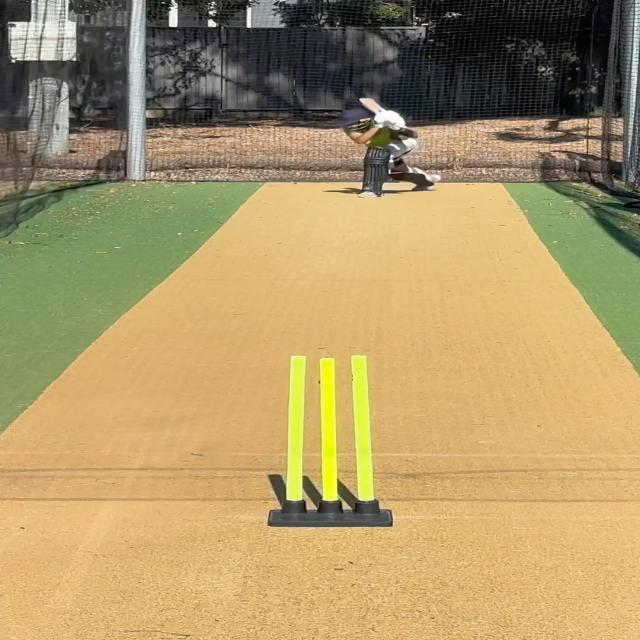stump: (264, 353, 393, 528)
